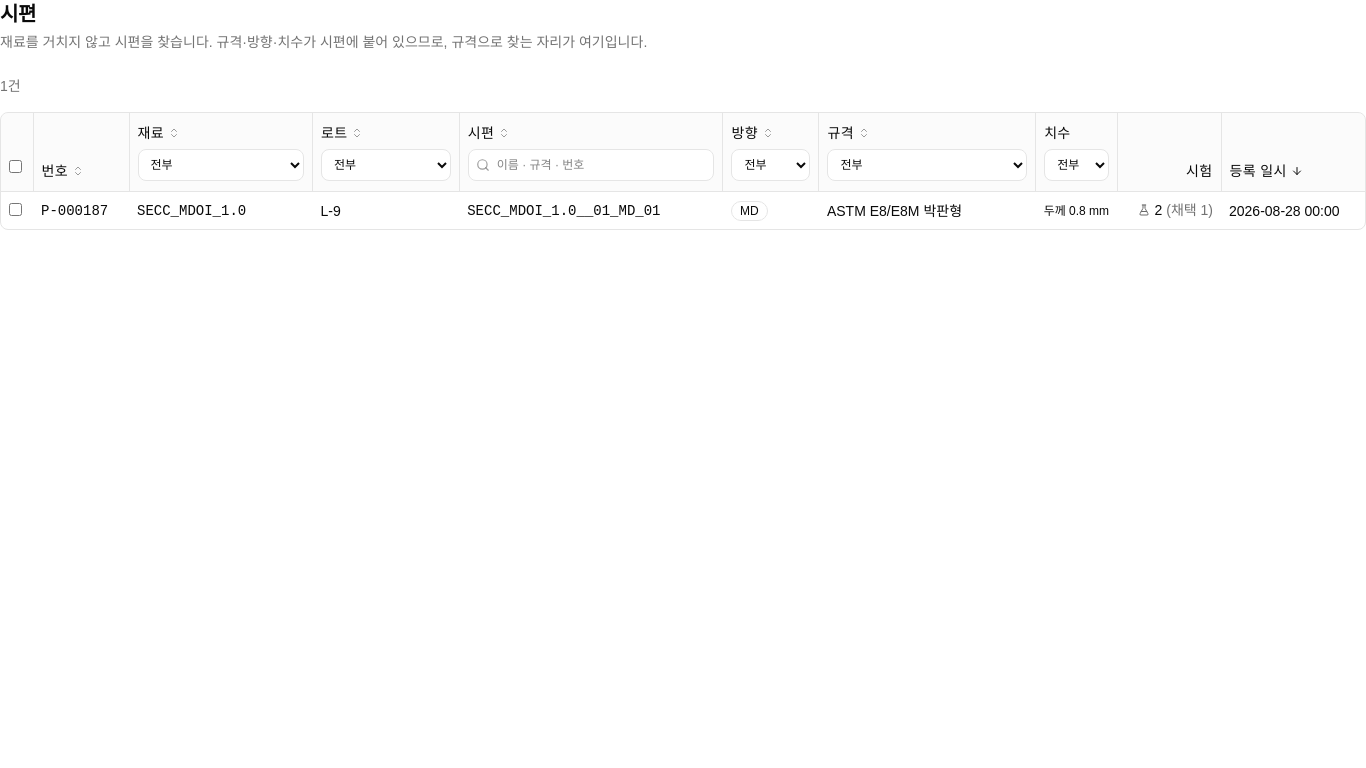
it: 다른 두께로 옮기기 › 고른 시편만 옮기고, 무엇이 어디로 갔는지 말한 뒤 표를 다시 읽는다
Expected: the link "SECC_MDOI_1.0" is shown, [137,202,246,218]
Expected: the button "다른 두께로 옮기기" is not shown
Click the checkbox named "SECC_MDOI_1.0__01_MD_01 선택". click: (16, 209)
box: [9,202,22,216]
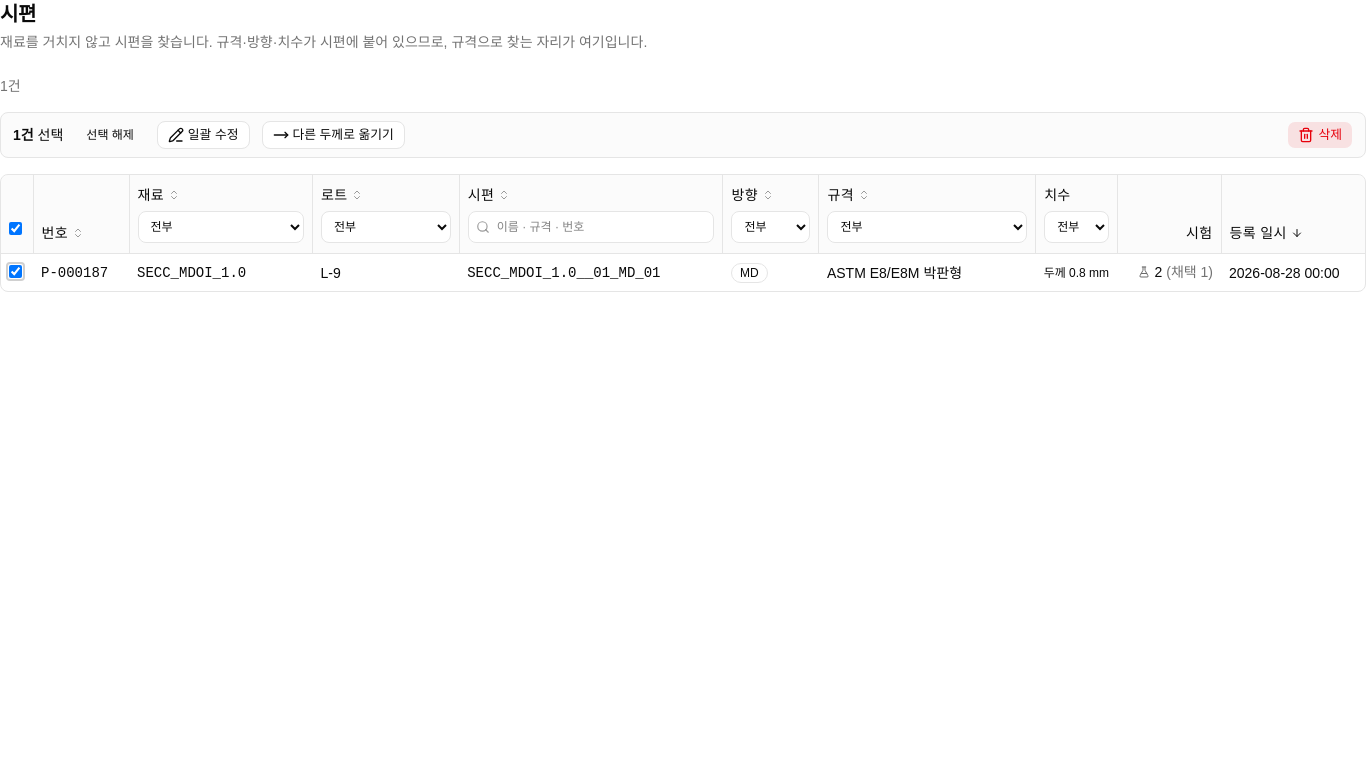
Click the button "다른 두께로 옮기기". click: (333, 135)
box: [262,121,405,149]
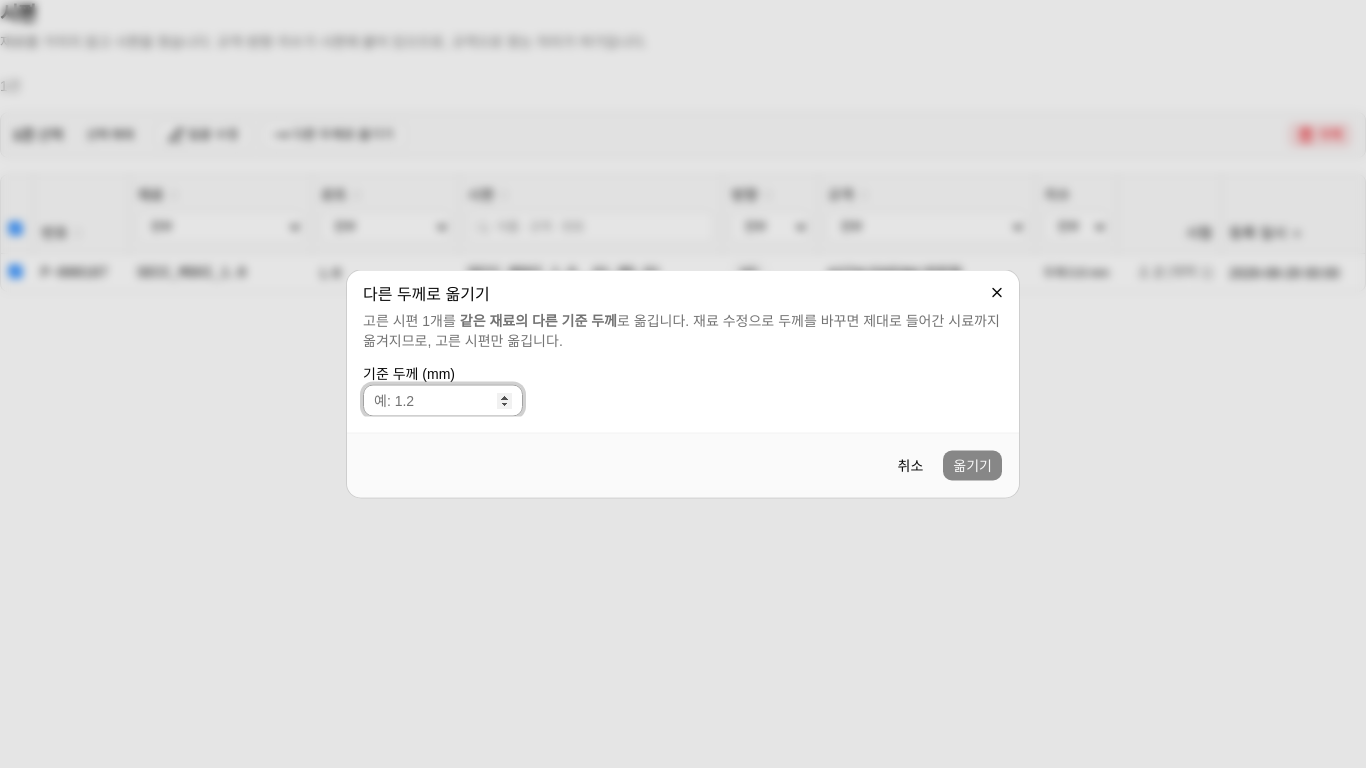
Type "1.2" into the number field labelled "기준 두께 (mm)". click: (443, 400)
box: [363,384,523,416]
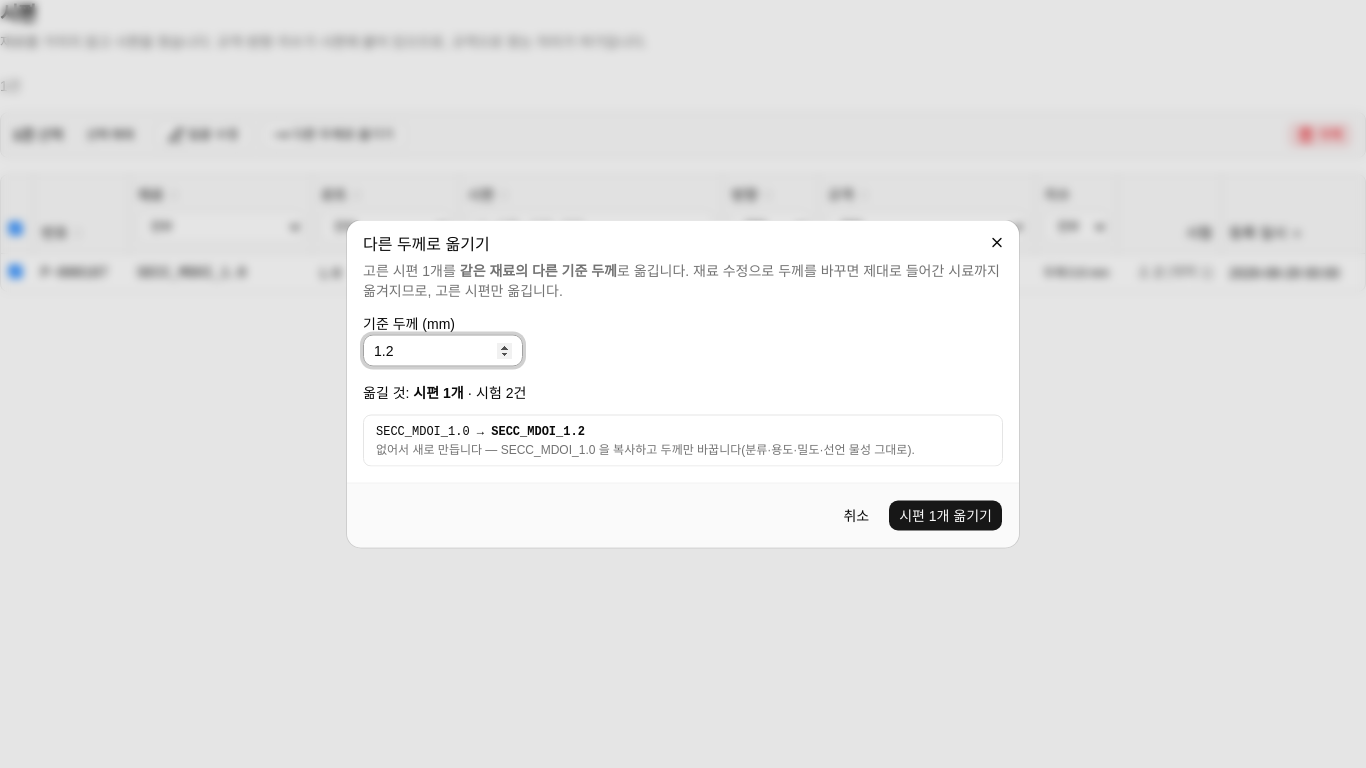
Expected: the text "없어서 새로 만듭니다" is shown, [376,442,915,456]
Click the button "시편 1개 옮기기". click: (946, 516)
box: [888,500,1003,532]
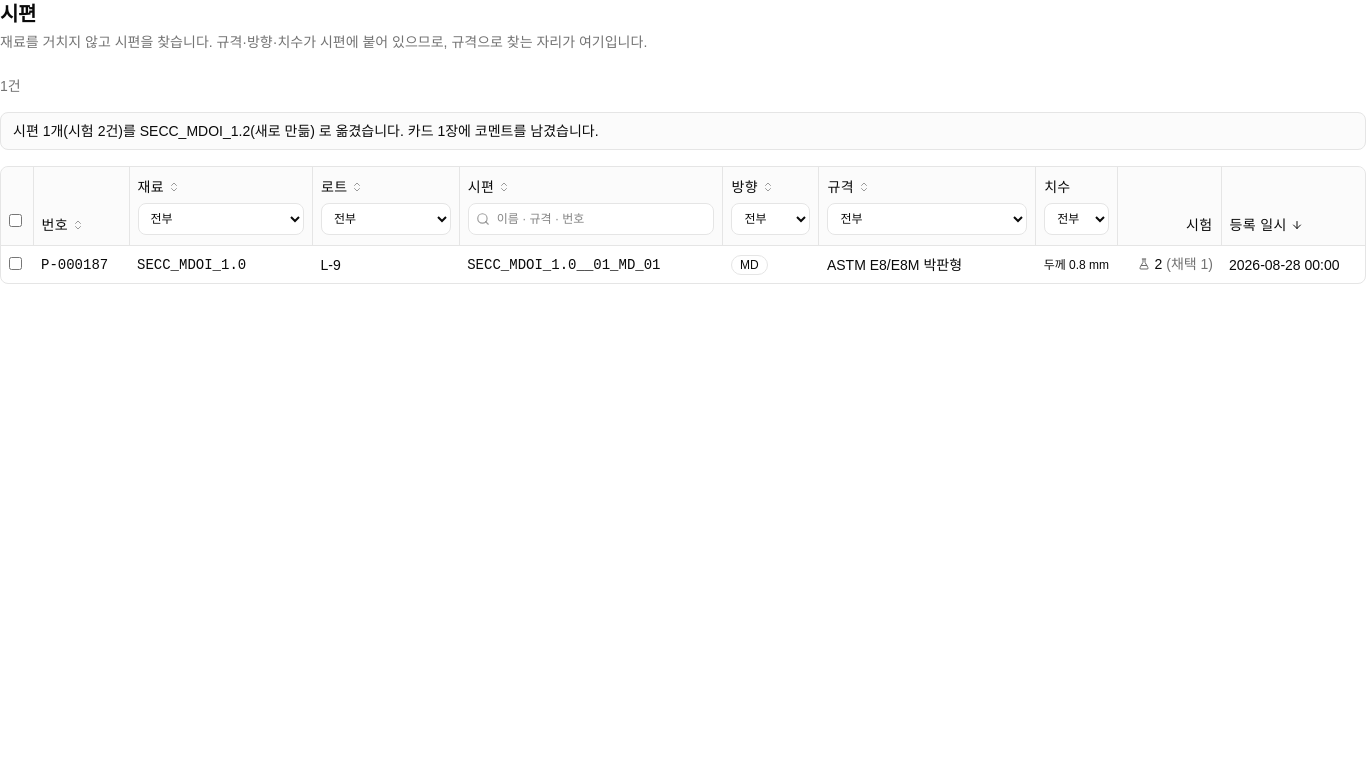
Expected: the text "SECC_MDOI_1.2(새로 만듦) 로 옮겼습니다" shows "카드 1장에 코멘트를 남겼습니다", [13,123,599,139]
